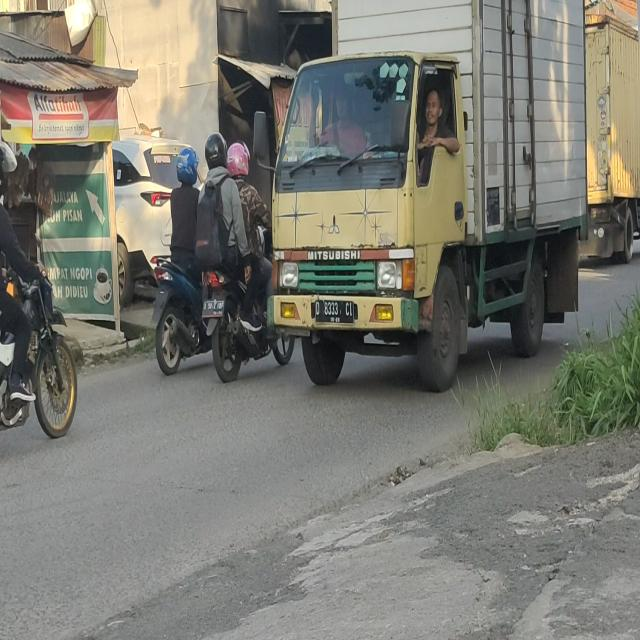helmet: (177, 143, 199, 185), (205, 132, 228, 170), (228, 143, 250, 177), (0, 140, 14, 192)
